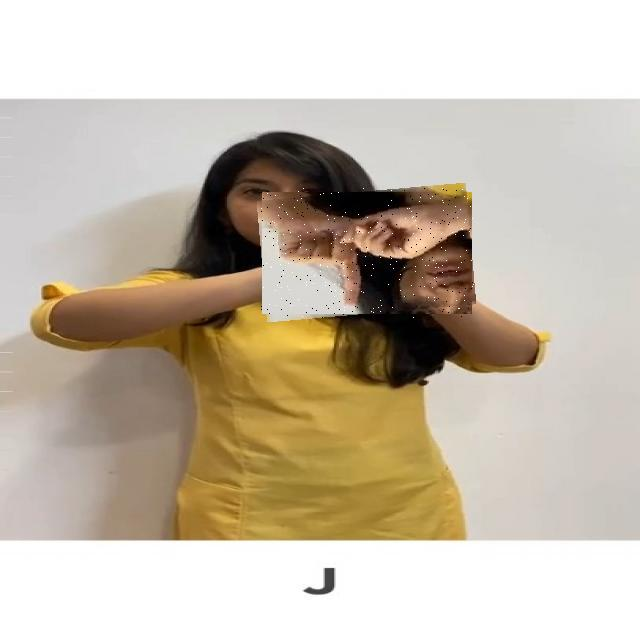J: (260, 188, 474, 318)
